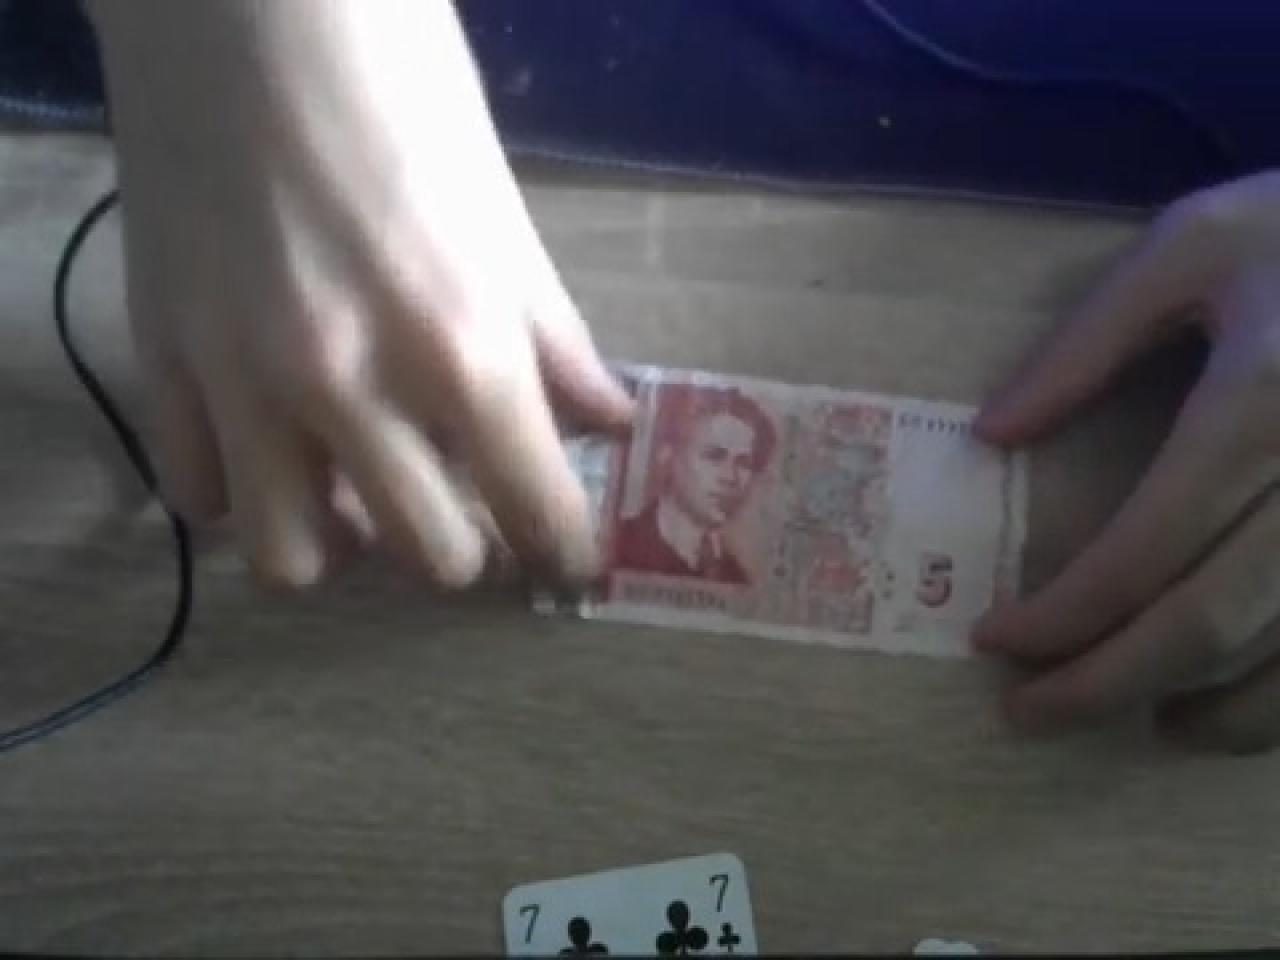5leva: (603, 365, 1021, 656)
